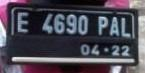clone-license-plate: (9, 3, 137, 59)
